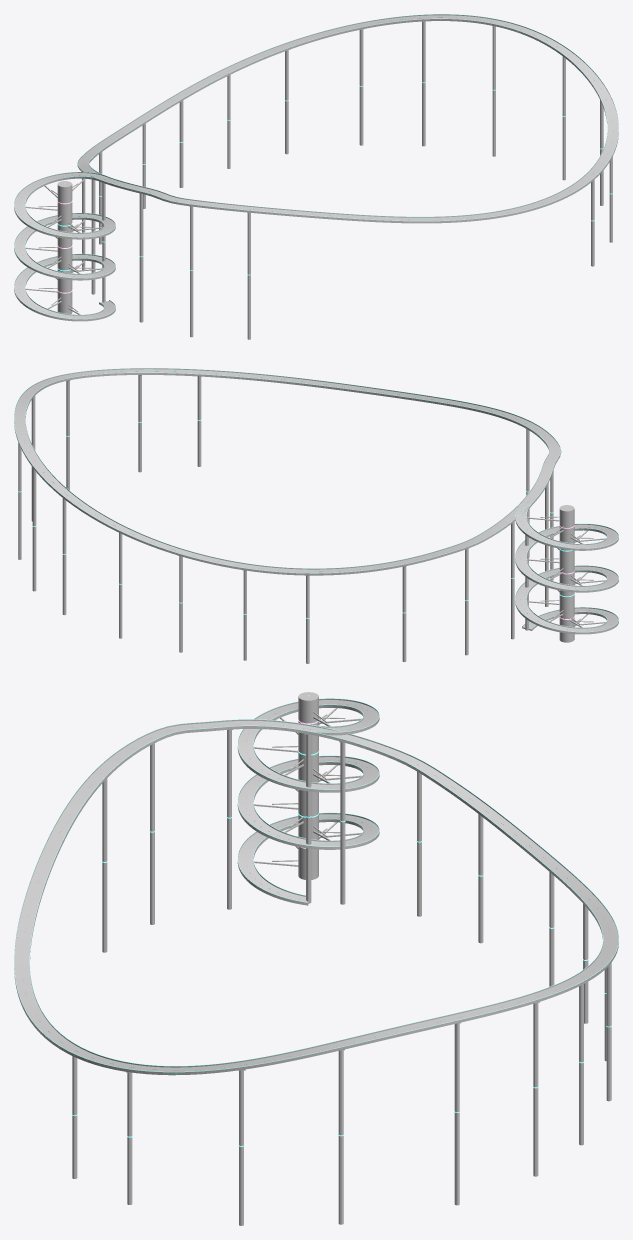
The model's file is City_SkyRoads.fbx.
3 views of the same model, one above another, from view 1: azimuth 30°, elevation 25°; view 2: azimuth 150°, elevation 25°; view 3: azimuth 270°, elevation 25° (orthographic). The views are drawn at different scales.
Parts seen in each view (by area): view 1: City_SkyRoads_LOD0; view 2: City_SkyRoads_LOD0; view 3: City_SkyRoads_LOD0.
Part boxes in pixels (x1,y1,x2,y2): City_SkyRoads_LOD0: (14, 14, 618, 339); City_SkyRoads_LOD0: (14, 368, 618, 663); City_SkyRoads_LOD0: (14, 692, 618, 1225).
Size of what is drawn, in the model's own units: 793 by 181 by 528.
